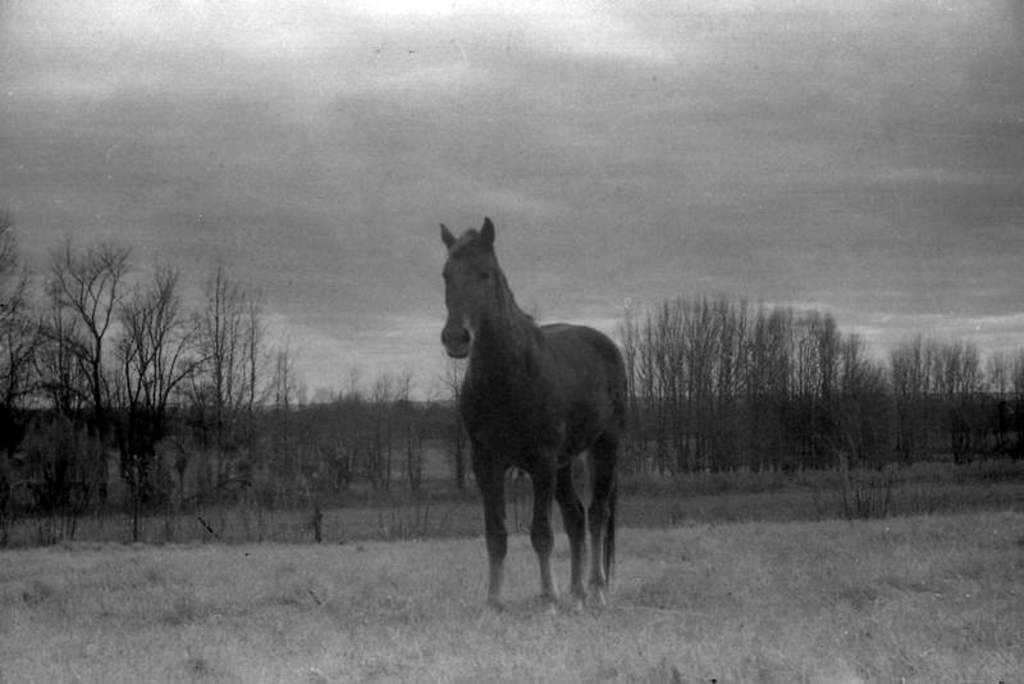horse: (436, 213, 629, 617)
